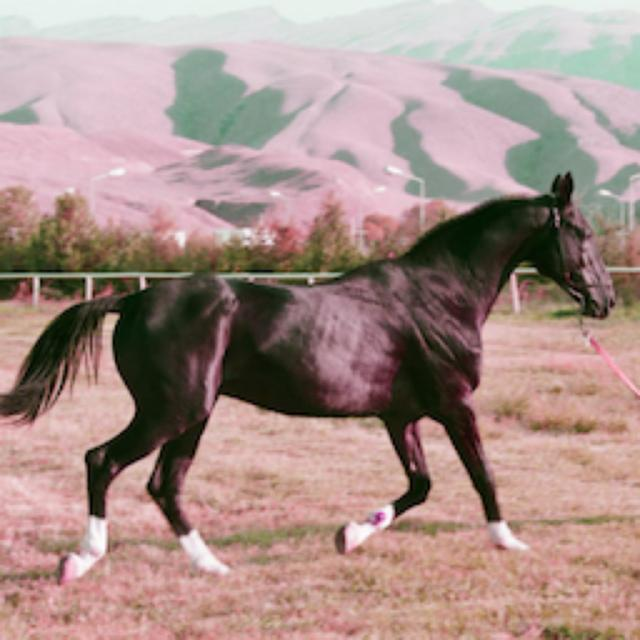Horse: (0, 165, 630, 588)
